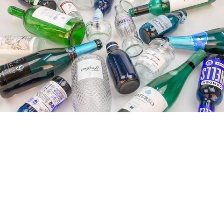bottle: (0, 37, 104, 99), (115, 48, 207, 114), (7, 0, 86, 48), (69, 51, 113, 112), (13, 73, 72, 112), (103, 39, 142, 97), (193, 52, 224, 120), (137, 34, 177, 81), (137, 8, 189, 44), (112, 3, 145, 58), (161, 26, 223, 54), (127, 0, 217, 18), (0, 31, 46, 60), (86, 10, 114, 43), (57, 0, 83, 25), (16, 0, 58, 13), (91, 0, 116, 17)
